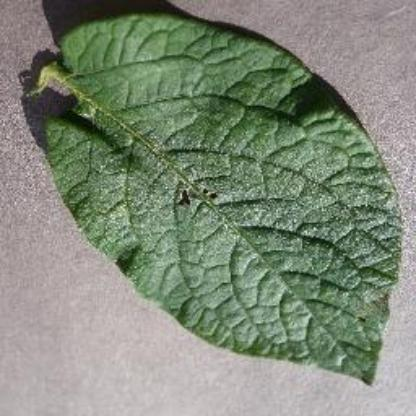Healthy-plant: (39, 11, 403, 389)
